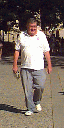person: (14, 17, 54, 114)
